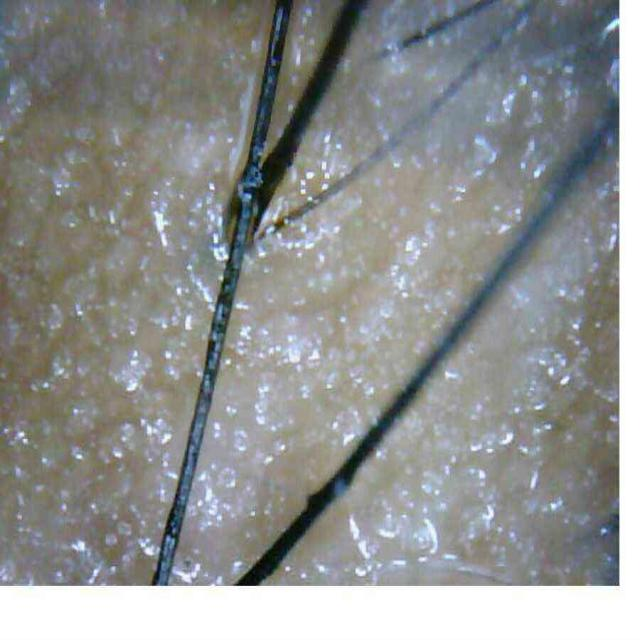o: (171, 0, 618, 585), (171, 0, 618, 583), (0, 0, 274, 584), (0, 1, 274, 583), (268, 136, 618, 585), (272, 135, 616, 583), (266, 0, 342, 154)
